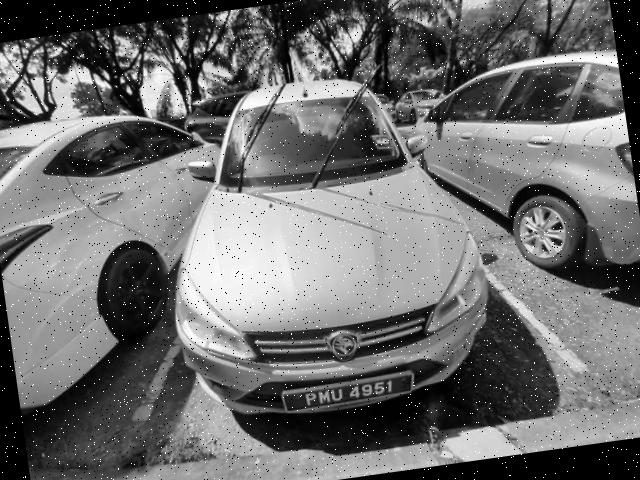License_Plate: (280, 370, 419, 417)
car: (144, 58, 504, 434)
